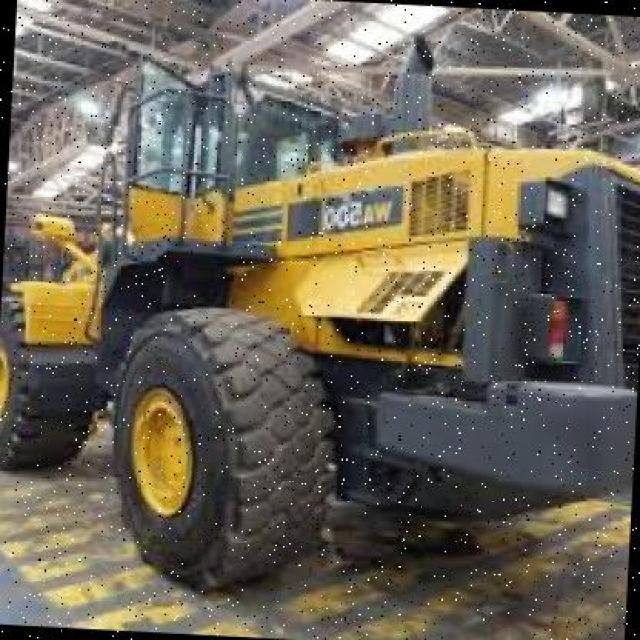buldozerpayloadergrader: (0, 54, 640, 611)
